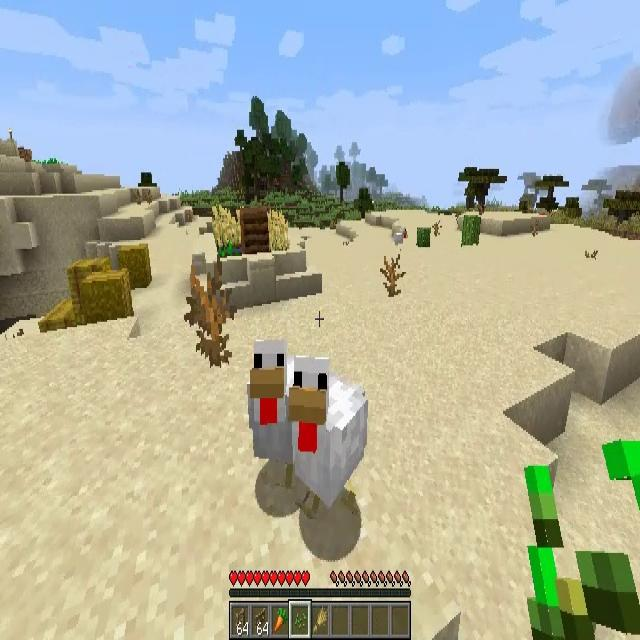duck: (289, 353, 368, 513), (250, 339, 288, 492)
sheep: (394, 233, 403, 248)
